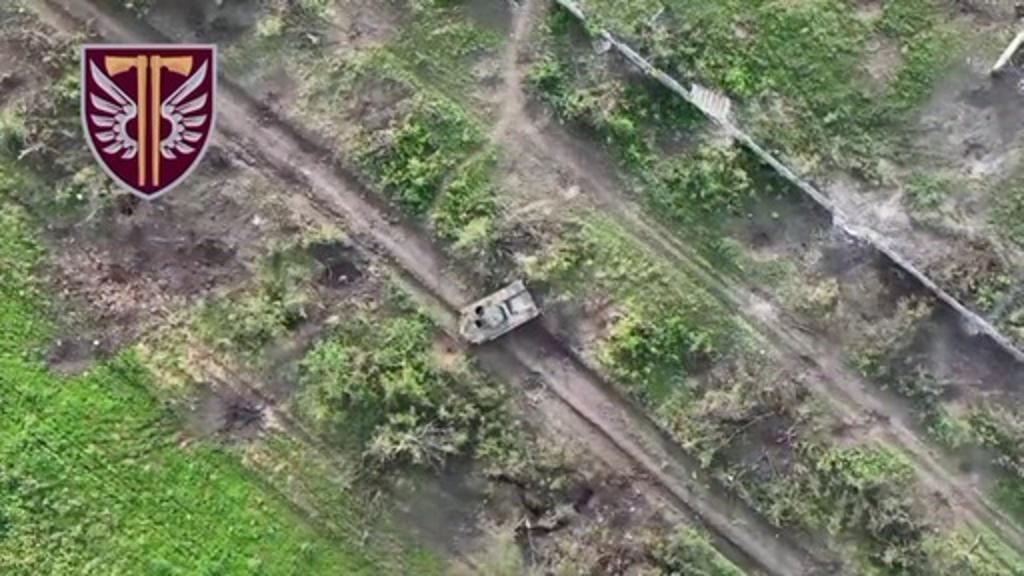APC-IFV: (452, 284, 544, 350)
